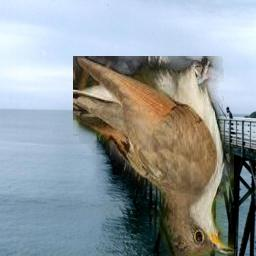Cuckoo: (74, 56, 235, 256)
